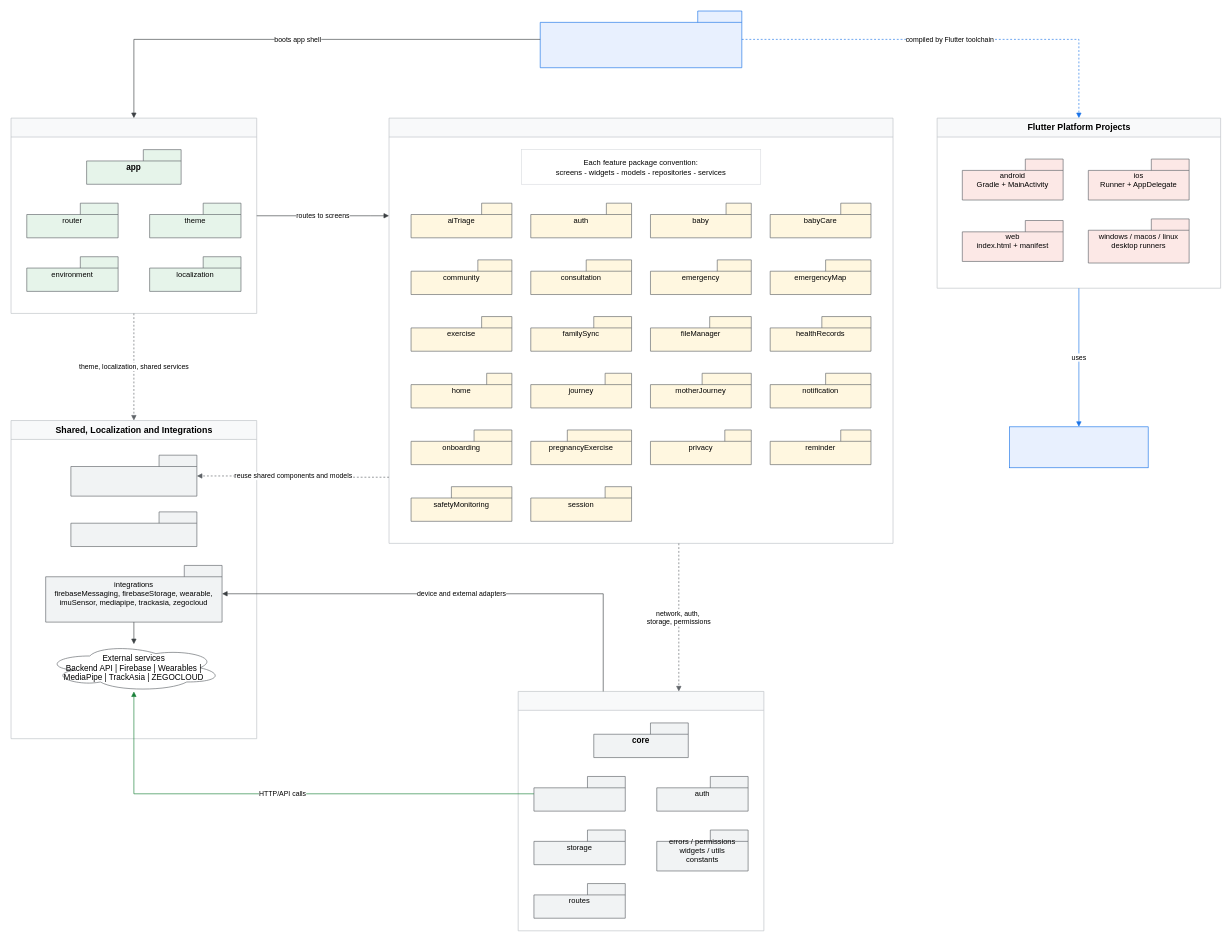
This 1232x942 diagram has some shape labels left out. Here are the shapes that lost their labels. From the top down, the box of each, then its label:
(540, 10, 742, 68): main.dart runApp(MyApp) MaterialApp root
(10, 117, 257, 313): Application Shell
(388, 117, 893, 543): Feature Packages
(1009, 426, 1148, 468): Flutter SDK Material + Cupertino Icons
(70, 455, 197, 496): shared components, models, services
(70, 511, 197, 547): l10n
(533, 776, 625, 811): network
(518, 691, 764, 931): Core Packages
